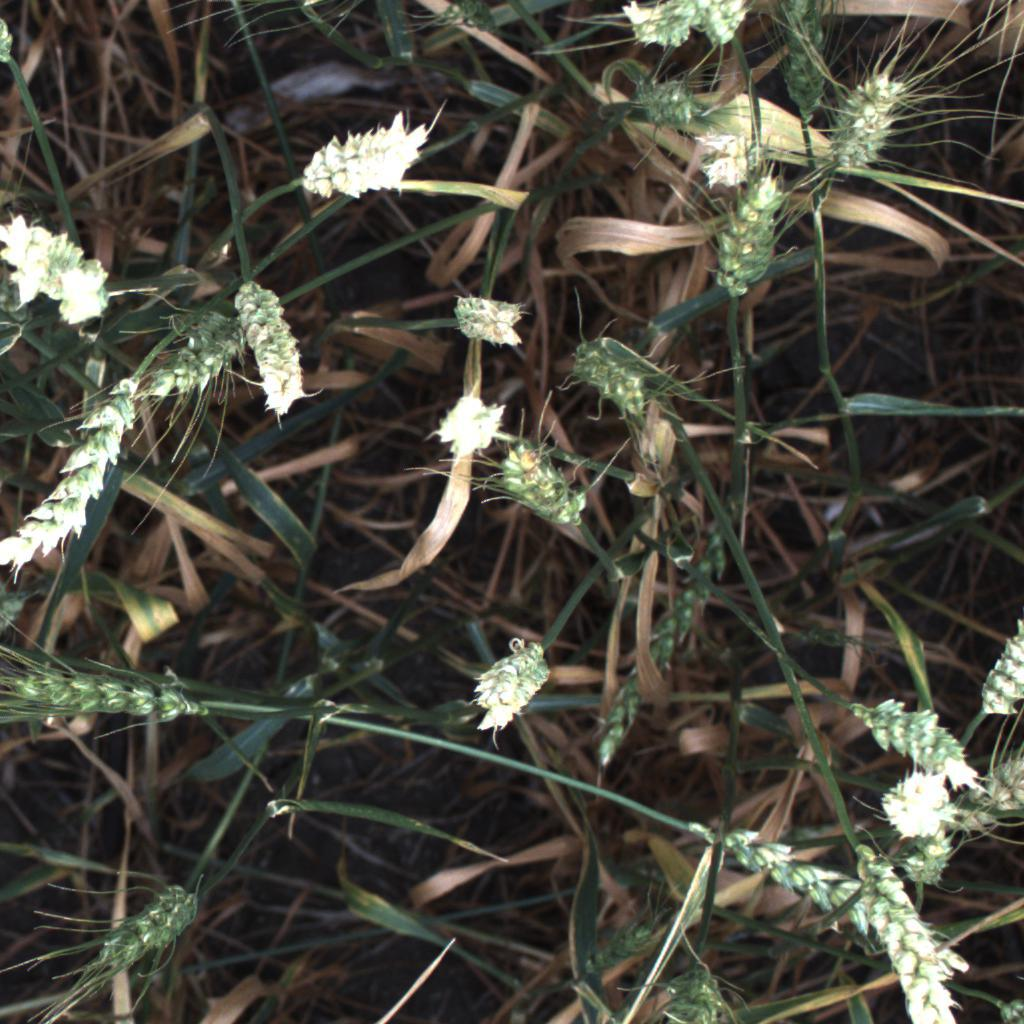0-0: (682, 816, 976, 984), (597, 514, 737, 781), (0, 357, 149, 579), (835, 838, 968, 1024), (0, 640, 210, 739), (842, 683, 986, 799), (0, 205, 122, 334), (286, 111, 436, 214), (448, 616, 567, 739), (90, 865, 206, 990), (229, 277, 321, 429), (823, 58, 919, 186), (146, 289, 248, 408), (490, 431, 596, 540), (710, 165, 787, 303), (437, 269, 540, 365), (573, 905, 684, 991), (769, 0, 837, 134), (857, 757, 965, 840), (424, 377, 517, 470), (569, 332, 660, 422), (964, 609, 1024, 723), (603, 0, 708, 54), (670, 958, 738, 1024), (697, 0, 756, 57), (966, 750, 1024, 806)
